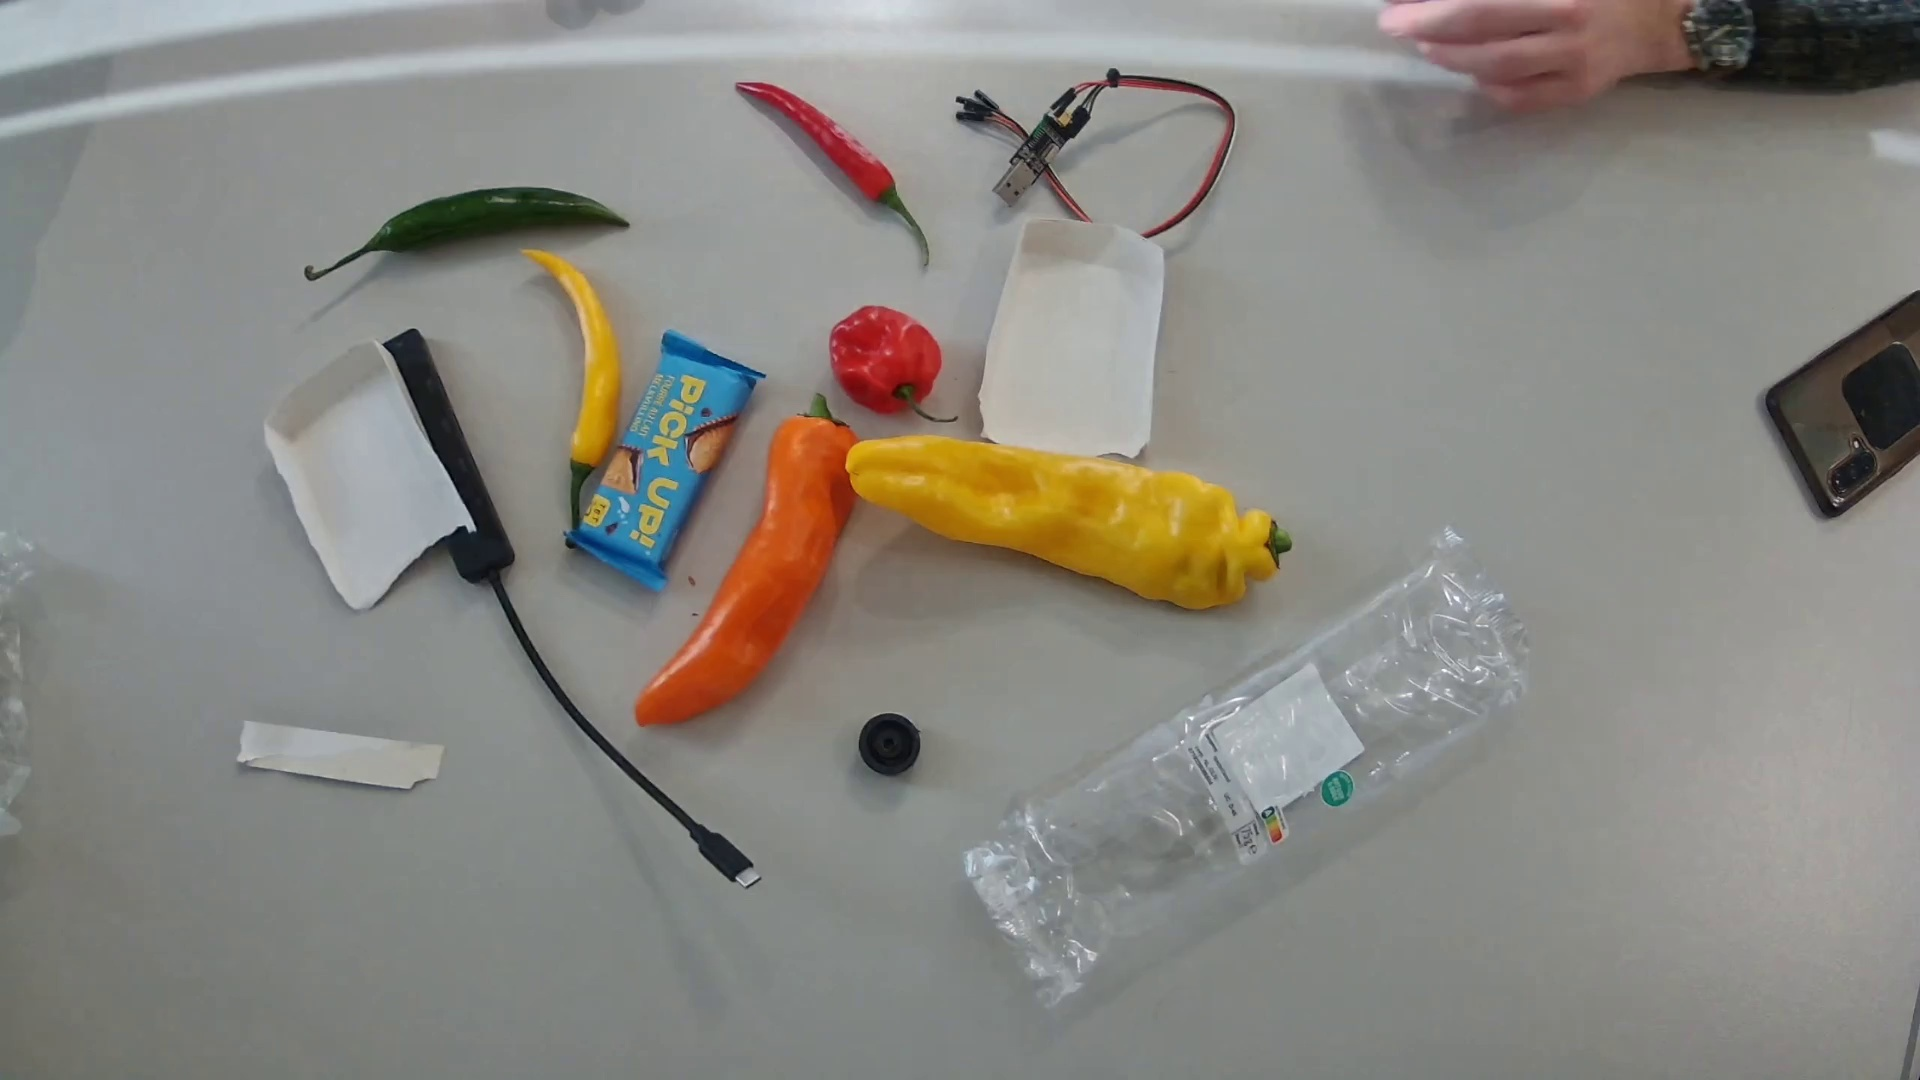Habanero_Pepper_Red: (828, 305, 960, 423)
Pick_up: (562, 327, 769, 595)
Spanish_Pepper_Green: (303, 186, 630, 282)
Spanish_Pepper_Red: (735, 82, 931, 268)
Sweet_Pepper_Orange: (633, 392, 860, 729)
Sweet_Pepper_Yellow: (844, 431, 1294, 612), (520, 248, 622, 539)
